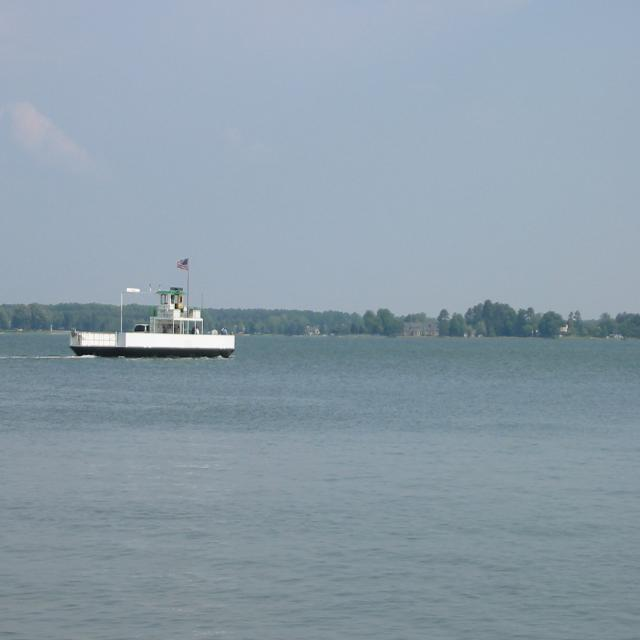passenger ship: (72, 284, 238, 358)
